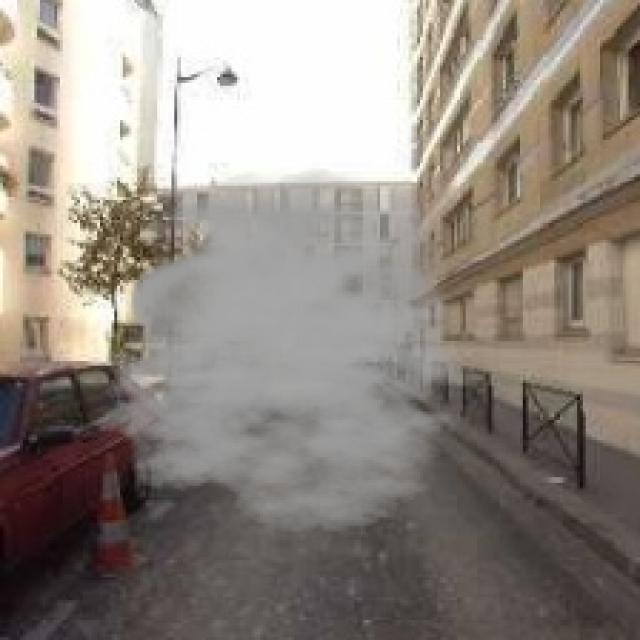smoke: (94, 169, 506, 534)
